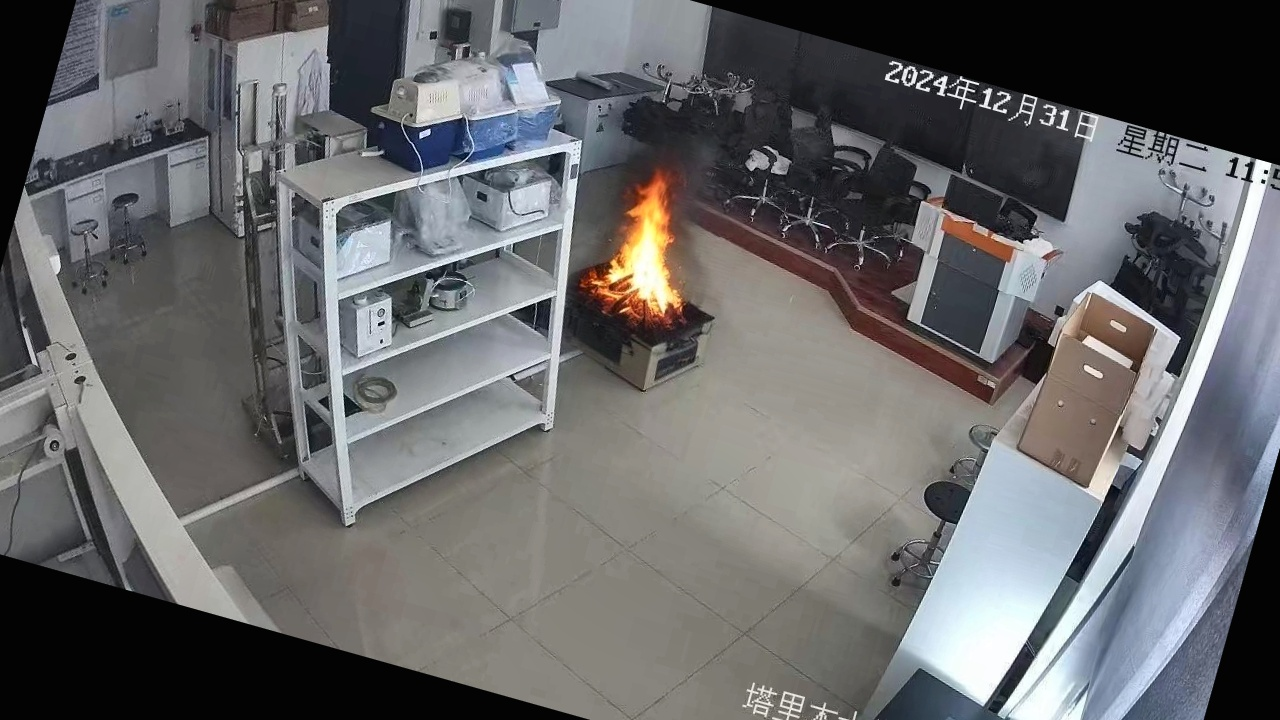fire: (547, 143, 768, 397)
